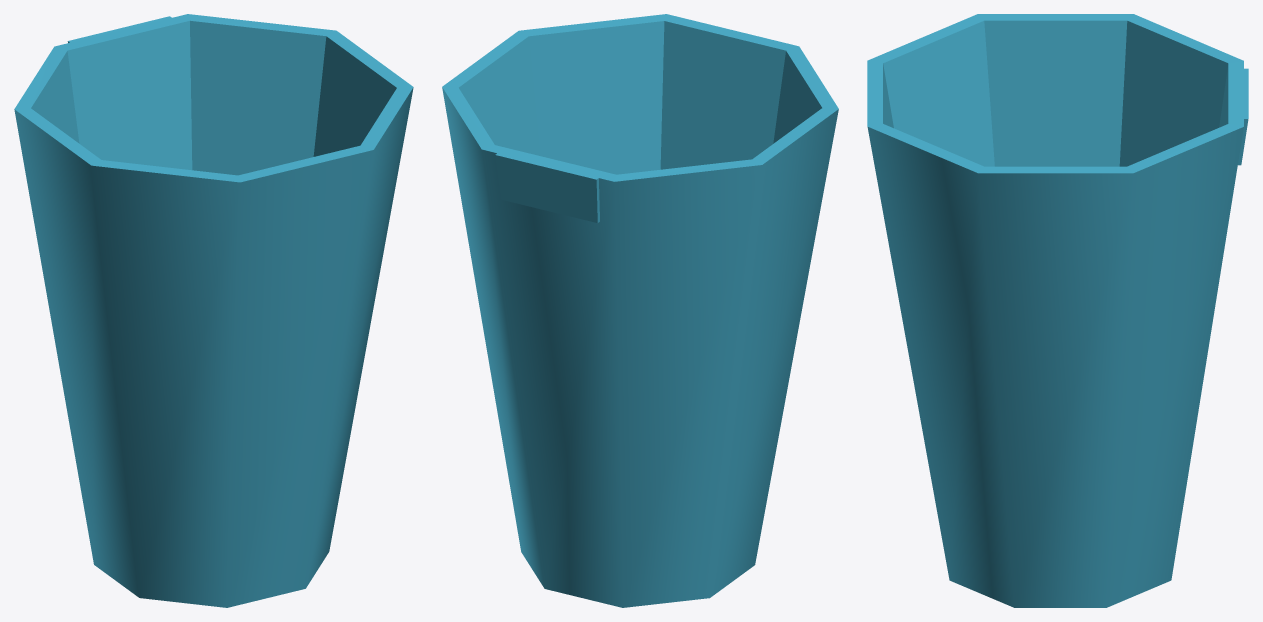
File: Itr_Trashcan3_Body_05.FBX
3 views of the same model, side by side, from view 1: azimuth 30°, elevation 25°; view 2: azimuth 150°, elevation 25°; view 3: azimuth 270°, elevation 25° (orthographic).
Visible parts, largest first — view 1: Itr_Trashcan3_Body_05; view 2: Itr_Trashcan3_Body_05; view 3: Itr_Trashcan3_Body_05.
Boxes of the visible parts, <box> form: Itr_Trashcan3_Body_05: <box>14,14,413,607</box>; Itr_Trashcan3_Body_05: <box>442,14,838,607</box>; Itr_Trashcan3_Body_05: <box>867,14,1248,607</box>.
Size of the model in its own units: 13.72 by 18.79 by 13.88.
